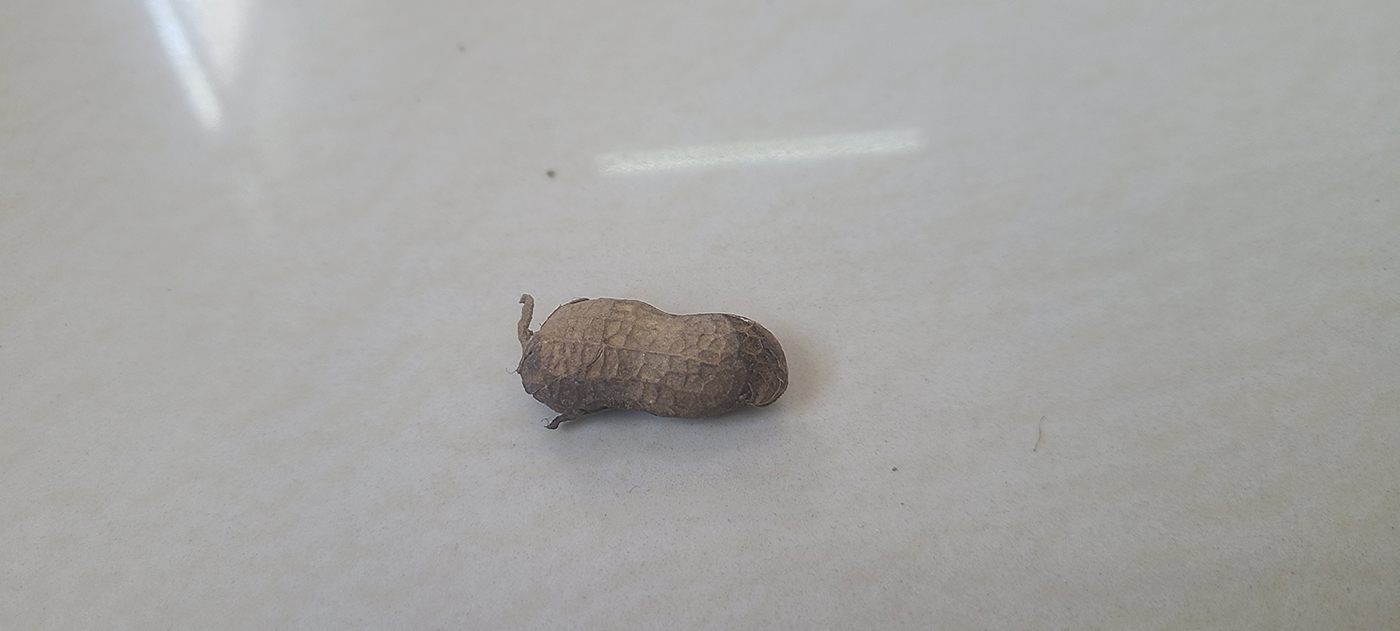l: (514, 290, 787, 427)
